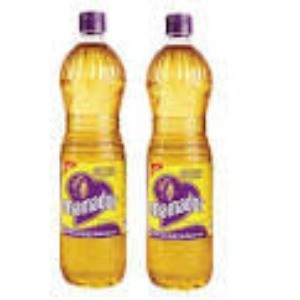vegetable oil_brain food: (56, 45, 128, 284), (141, 54, 213, 283)
